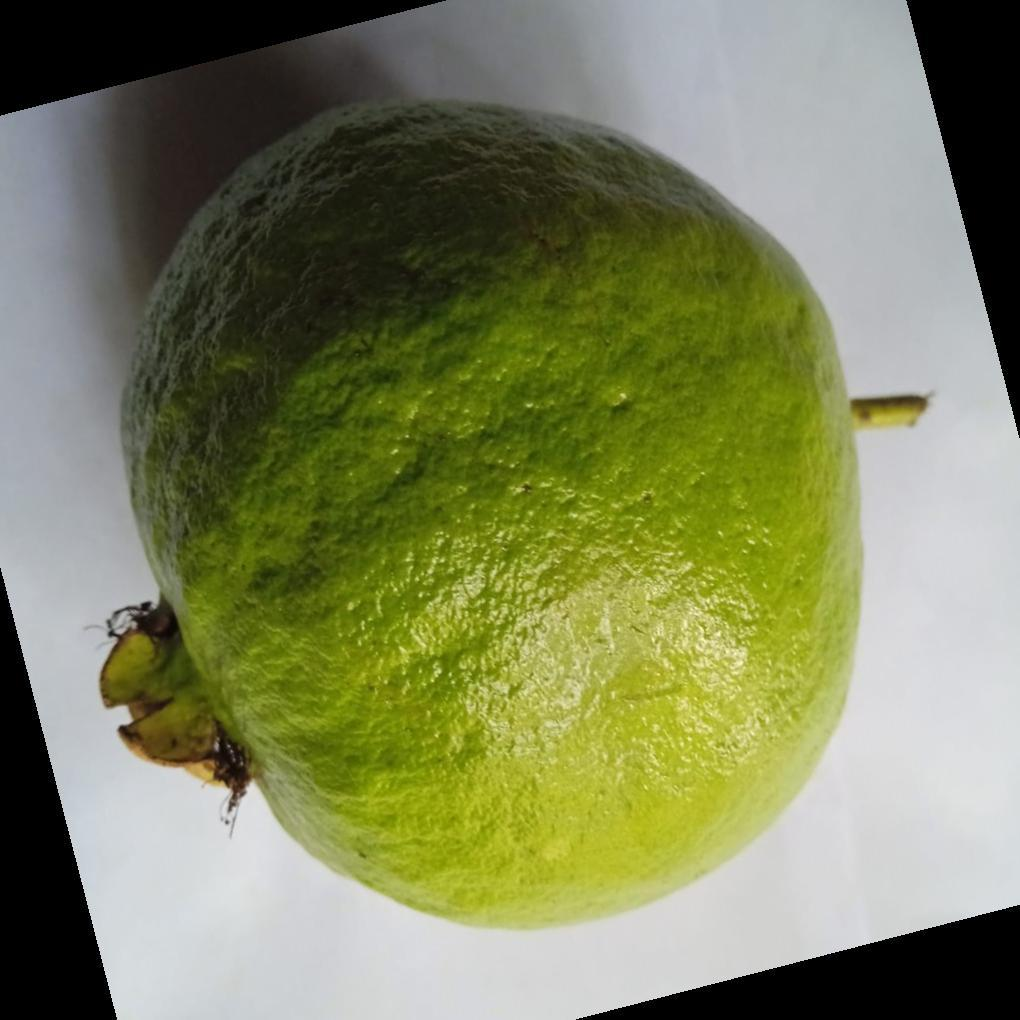FreshGuava: (102, 97, 866, 936)
